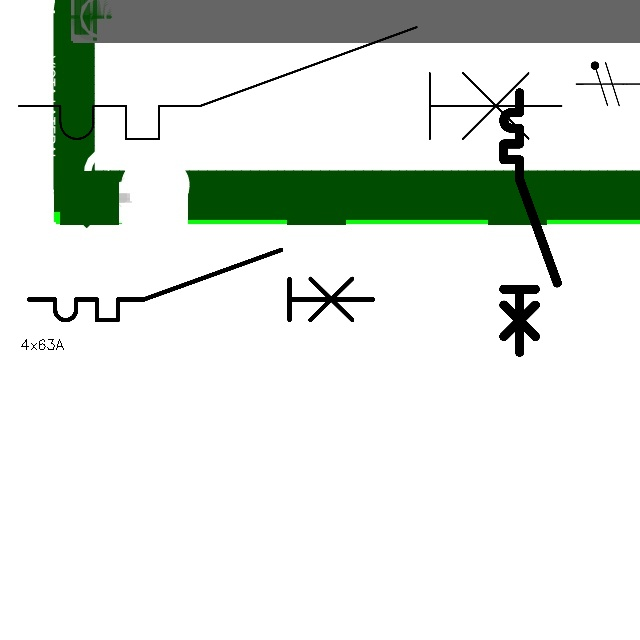interruptor_termomagnetico: (5, 13, 575, 153), (20, 241, 382, 329), (497, 86, 564, 359)
